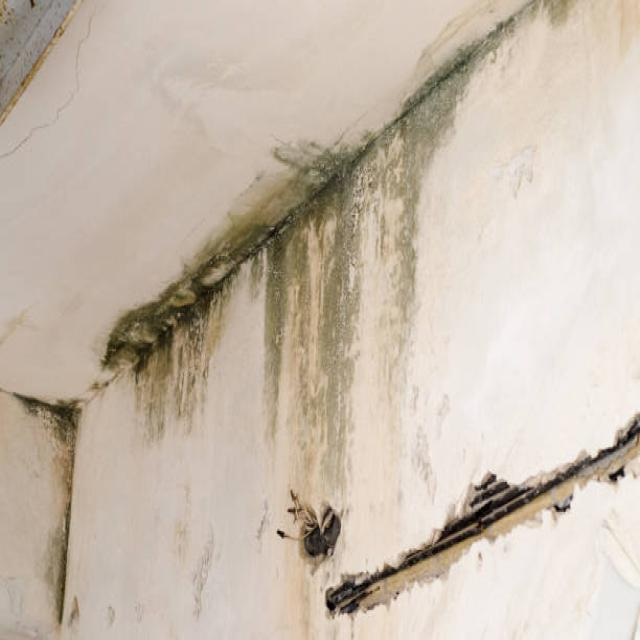Crack: (327, 406, 637, 616)
